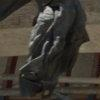Statue: (16, 5, 79, 91)
